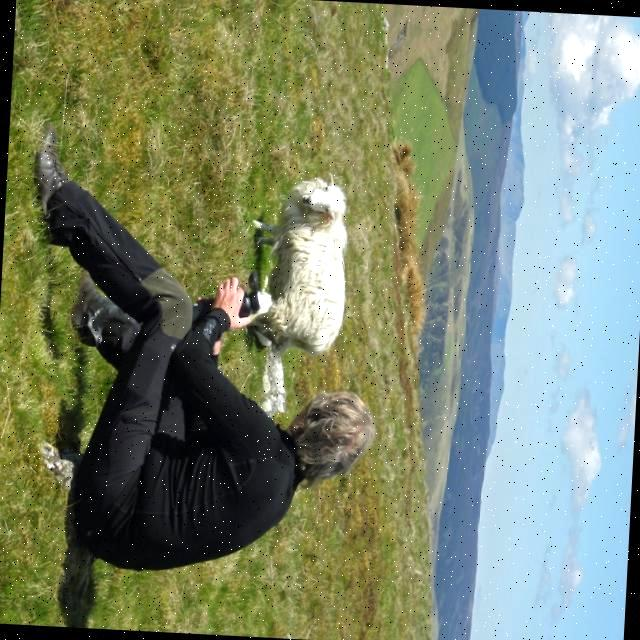sheep: (250, 172, 349, 353)
